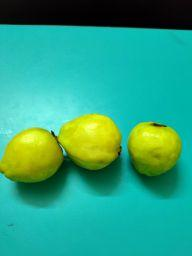guava: (0, 123, 66, 184), (56, 111, 120, 170), (125, 120, 184, 180)
